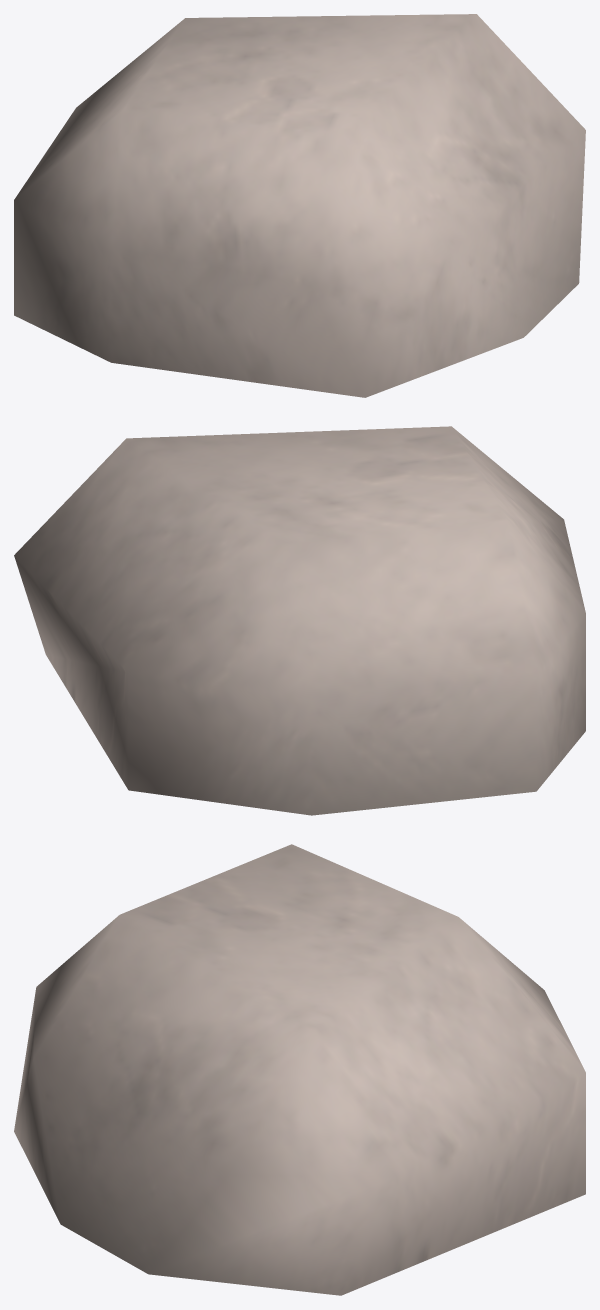
The model's file is Rock01_Art.fbx.
3 views of the same model, one above another, from view 1: azimuth 30°, elevation 25°; view 2: azimuth 150°, elevation 25°; view 3: azimuth 270°, elevation 25° (orthographic). The views are drawn at different scales.
Parts seen in each view (by area): view 1: Rock01_Art; view 2: Rock01_Art; view 3: Rock01_Art.
Part boxes in pixels (x1,y1,x2,y2): Rock01_Art: (14, 14, 585, 397); Rock01_Art: (14, 426, 585, 815); Rock01_Art: (14, 844, 585, 1295).
Size of the model in its own units: 1.16 by 0.4811 by 1.08.
